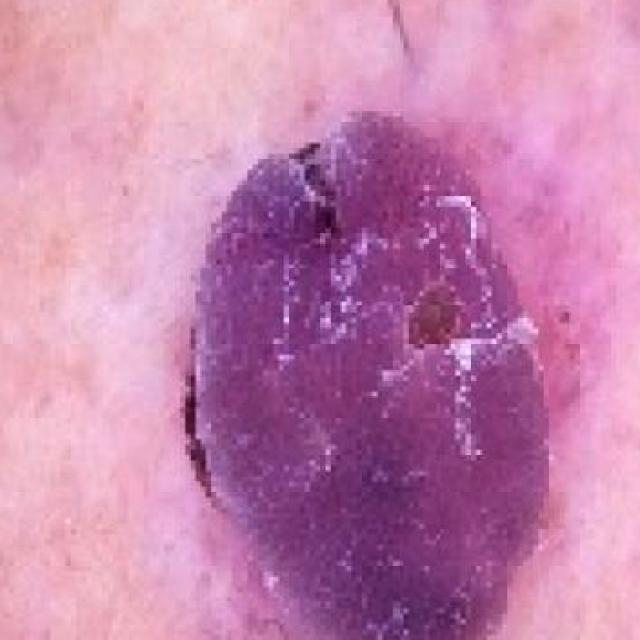BKL: (176, 16, 612, 640)
